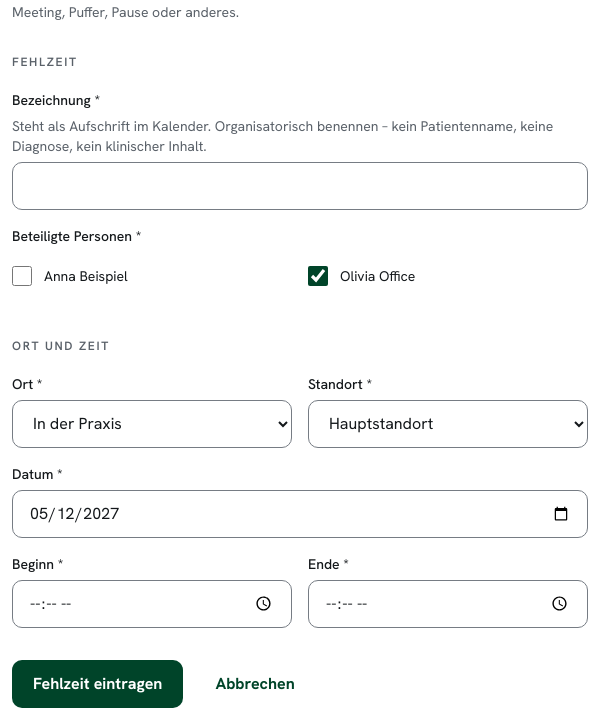
Test: NewEventPage › meldet fehlende Pflichtangaben inline und sendet nicht
(page scrolled)
Expected: the field labelled "Bezeichnung *" is shown, [12,162,588,210]
Click the button "Fehlzeit eintragen". click: [98, 684]
box: [12,660,183,707]
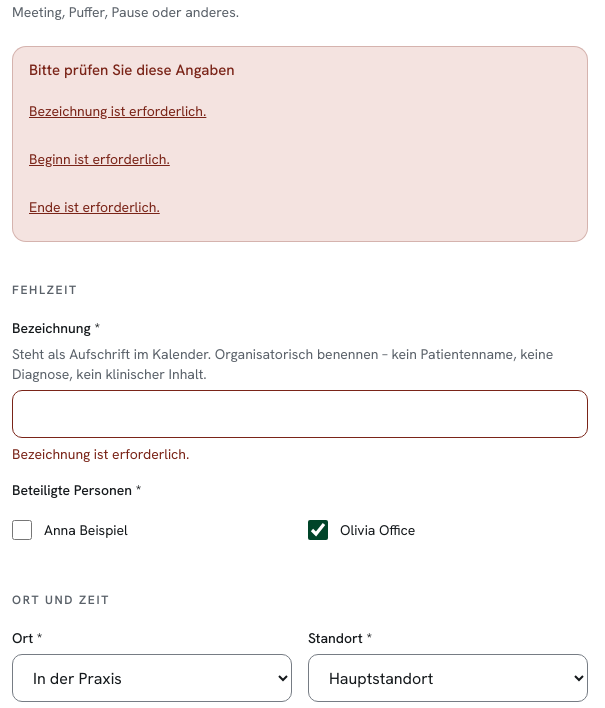
Expected: the text "Bezeichnung ist erforderlich." is shown, [12,445,189,463]
